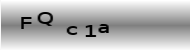1: (84, 24, 97, 38)
F: (20, 16, 32, 29)
Q: (37, 11, 55, 28)
a: (98, 23, 110, 34)
c: (65, 25, 78, 35)
